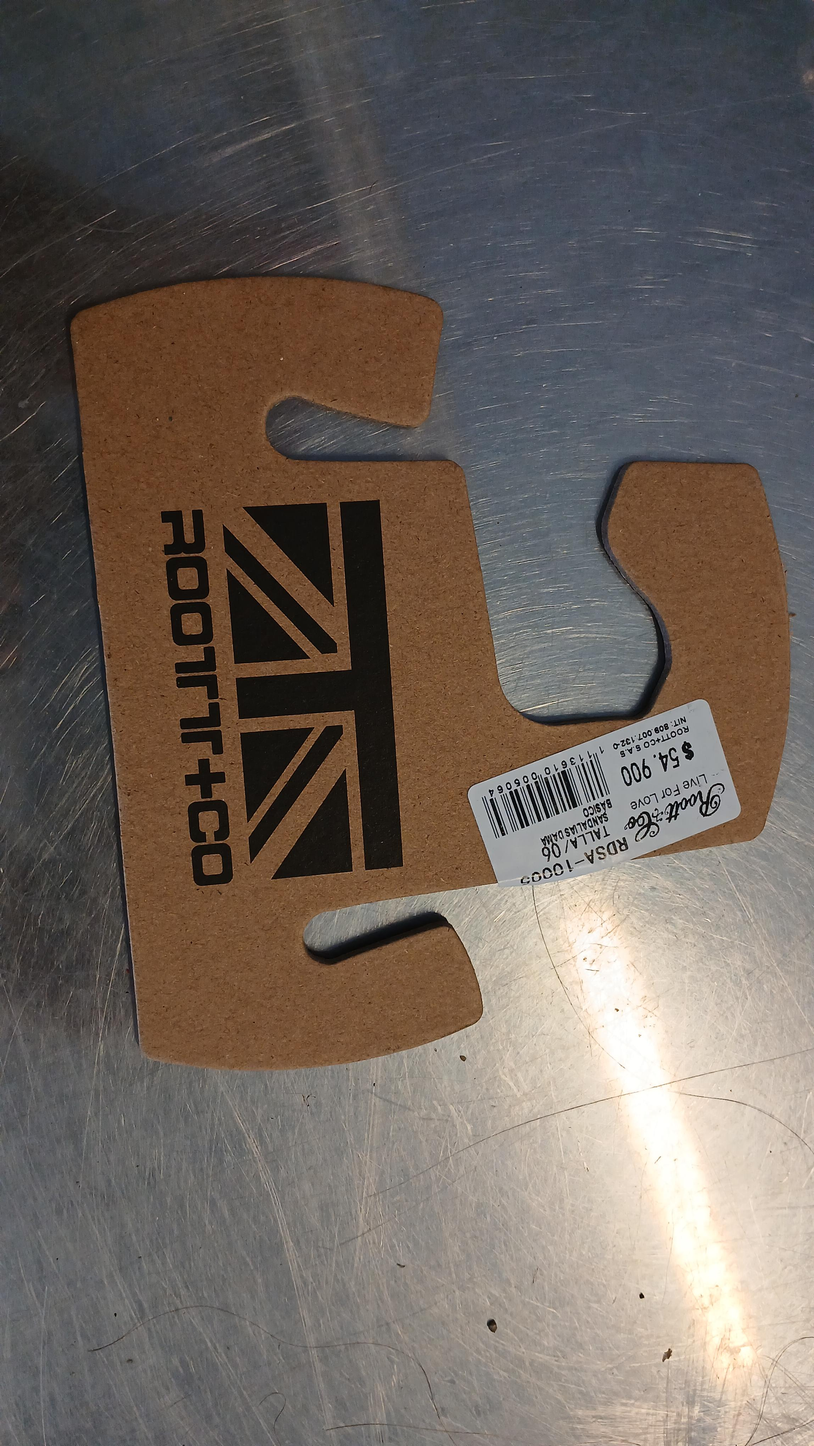Papel: (63, 276, 789, 1067)
